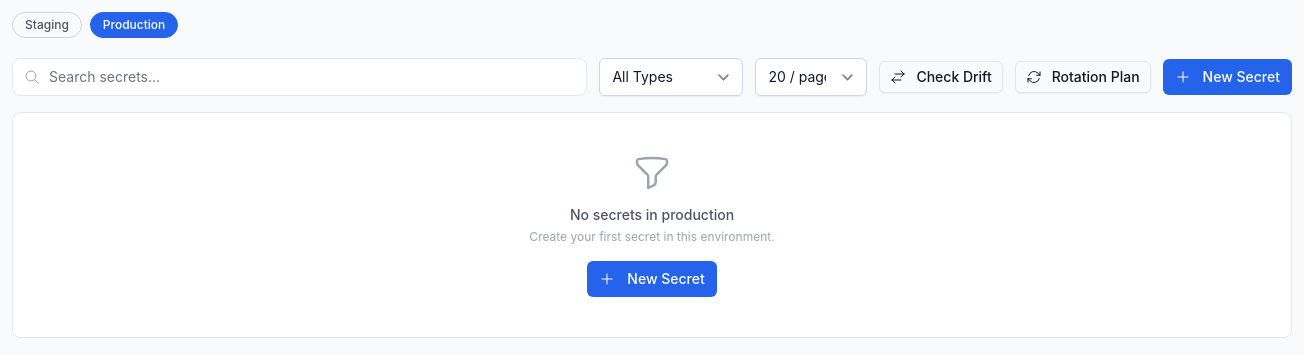
Test case: ProjectSecretsTab — environment selection › switches the active environment when a pill is clicked
This screenshot has width=1304, height=355.
Click the button "Staging".
click(47, 25)  # box [12,12,82,38]
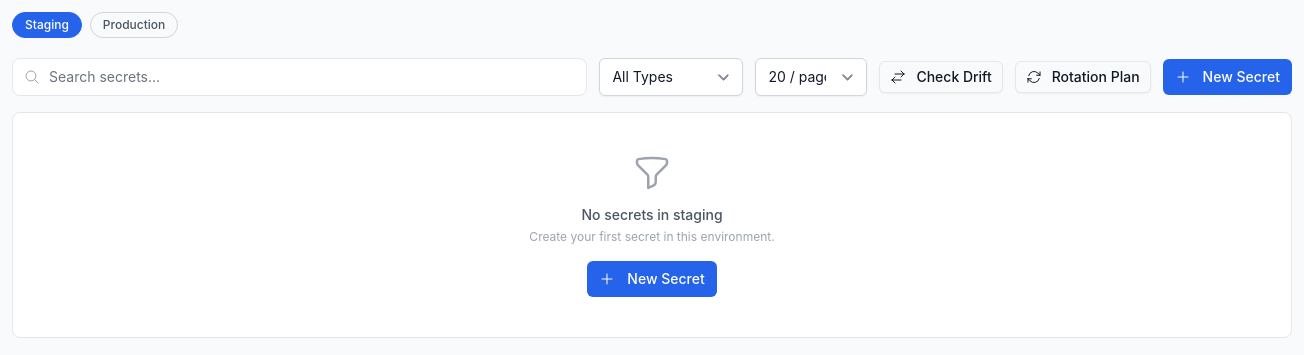
expect the text "No secrets in staging" is shown: met, box [581,206,723,223]
